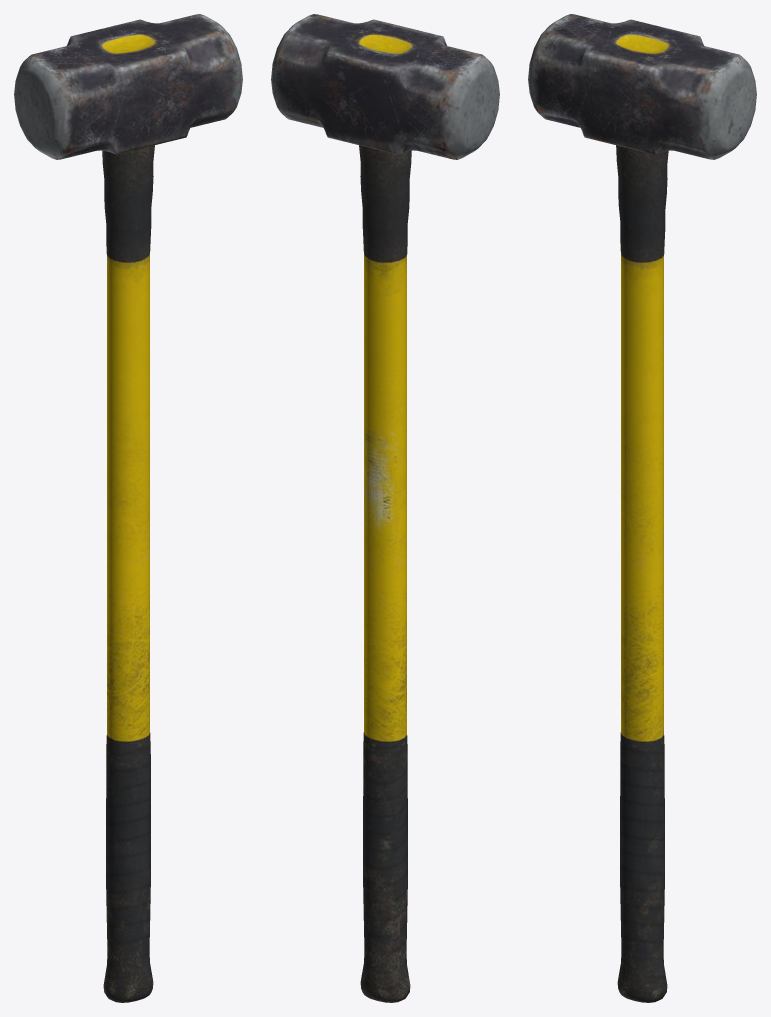
The model's file is sledgehammer.glb.
The picture shows the model from 3 angles, left to right: view 1: azimuth 30°, elevation 25°; view 2: azimuth 150°, elevation 25°; view 3: azimuth 330°, elevation 25°; orthographic projection.
Parts seen in each view (by area): view 1: sledgehammer_01; view 2: sledgehammer_01; view 3: sledgehammer_01.
Part boxes in pixels (x1=…): sledgehammer_01: x1=14, y1=14, x2=242, y2=1002; sledgehammer_01: x1=271, y1=14, x2=499, y2=1002; sledgehammer_01: x1=528, y1=14, x2=756, y2=1002.
Bounding box in the file's own units: 0.2085 × 1.01 × 0.0905.
Materials: 1 (1 with a texture image).
